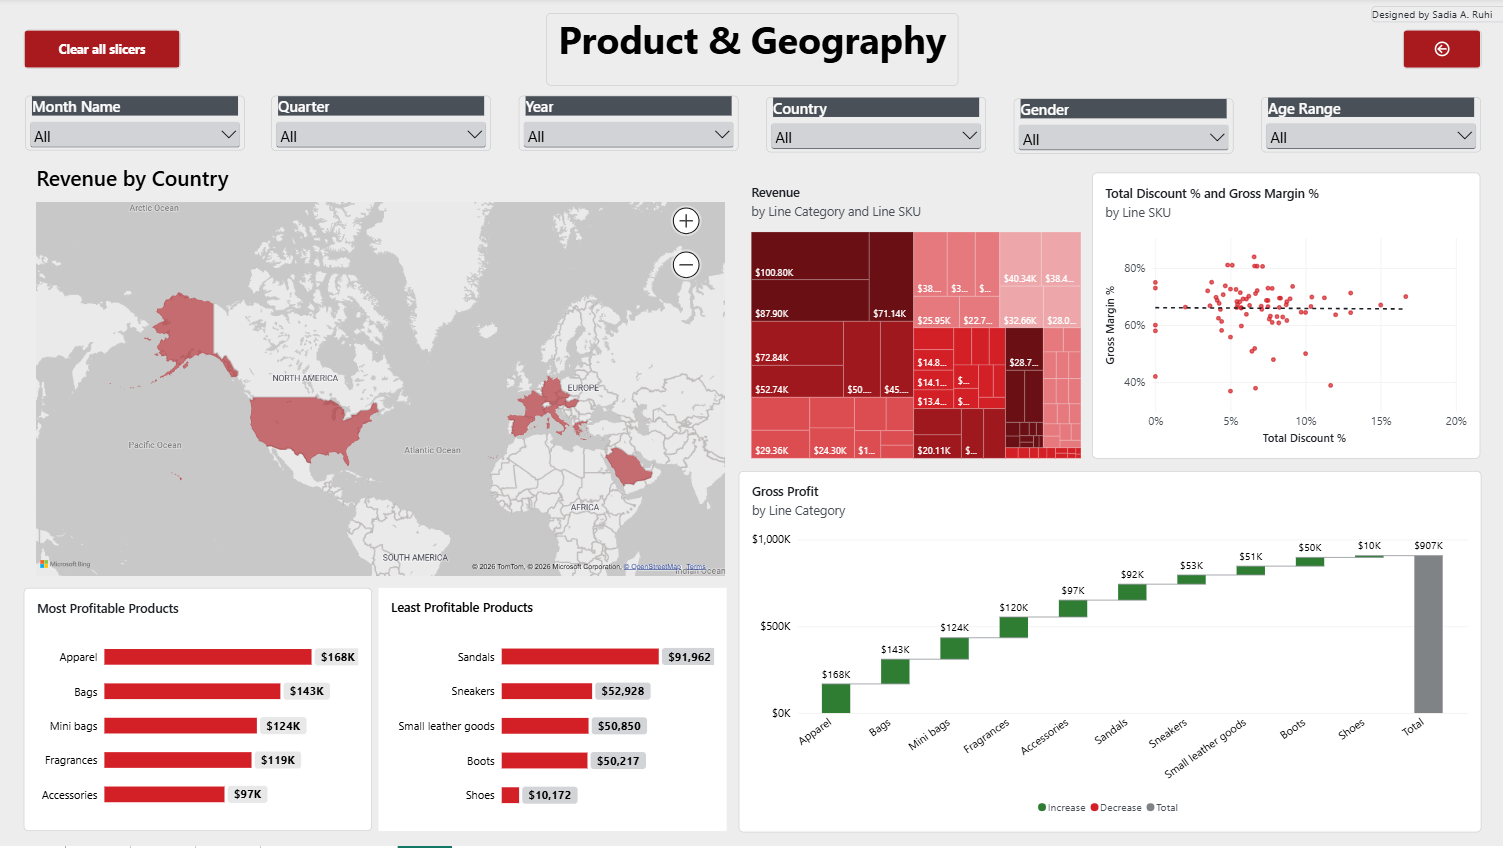

The page's visual inventory and layout, read from the dashboard file:
{"tool":"powerbi","page":{"name":"Product & Geography","canvas":[1920,1080],"ordinal":2},"visuals":[{"type":"textbox","box":[697.5,20,525,92.5],"z":0},{"type":"slicer","fields":{"Values":["DateTable.Year"]},"box":[662.7,124,280,70.8],"z":1000},{"type":"barChart","title":"Least Profitable  Products","fields":{"Category":["Purchases info.Line Category"],"Y":["_Measures.Gross Profit"]},"box":[484.2,752,443.8,310],"z":2000},{"type":"filledMap","title":"Revenue by Country","fields":{"Category":["Consumers info.Country"]},"box":[32,196,910,556],"z":3000},{"type":"slicer","fields":{"Values":["Consumers info.Country"]},"box":[977.8,126,280,70.8],"z":4000},{"type":"slicer","fields":{"Values":["Consumers info.Age Range"]},"box":[1608,126,280,70.8],"z":5000},{"type":"slicer","fields":{"Values":["DateTable.Month Name"]},"box":[32.5,125,280,70],"z":6000},{"type":"barChart","title":"Most Profitable Products","fields":{"Category":["Purchases info.Line Category"],"Y":["_Measures.Gross Profit"]},"box":[32,752,443.8,310],"z":7000},{"type":"slicer","fields":{"Values":["DateTable.Quarter"]},"box":[347.6,124,280,70.8],"z":8000},{"type":"actionButton","box":[32,40,200,50],"z":9000},{"type":"actionButton","box":[1788,40,100,50],"z":11000},{"type":"slicer","fields":{"Values":["Consumers info.Gender"]},"box":[1292.9,128,280,70.8],"z":12000},{"type":"waterfallChart","fields":{"Category":["Purchases info.Line Category"],"Y":["_Measures.Gross Profit"]},"box":[942,602,946,460],"z":14000},{"type":"scatterChart","fields":{"Category":["Purchases info.Line SKU"],"X":["_Measures.Total Discount %"],"Y":["_Measures.Gross Margin %"]},"box":[1393.3,222,494.7,364.5],"z":15000},{"type":"treemap","fields":{"Details":["Purchases info.Line SKU"],"Group":["Purchases info.Line Category"],"Values":["_Measures.Revenue"]},"box":[942,222,452,380],"z":16000},{"type":"textbox","box":[1748,10,172,20],"z":17000}]}

Visuals, with their boxes in screenshot pixels (x1, y1, x2, y2), scaled from the page's 1920x1080 canvas onto the 1503x848 screenshot:
textbox: 546,16,957,88
slicer - DateTable.Year: 519,97,738,153
"Least Profitable  Products" barChart: 379,590,726,834
"Revenue by Country" filledMap: 25,154,737,590
slicer - Consumers info.Country: 765,99,985,155
slicer - Consumers info.Age Range: 1259,99,1478,155
slicer - DateTable.Month Name: 25,98,245,153
"Most Profitable Products" barChart: 25,590,372,834
slicer - DateTable.Quarter: 272,97,491,153
actionButton: 25,31,182,71
actionButton: 1400,31,1478,71
slicer - Consumers info.Gender: 1012,101,1231,156
waterfallChart - Purchases info.Line Category x _Measures.Gross Profit: 737,473,1478,834
scatterChart - Purchases info.Line SKU x _Measures.Total Discount %: 1091,174,1478,461
treemap - Purchases info.Line SKU x Purchases info.Line Category: 737,174,1091,473
textbox: 1368,8,1502,24
